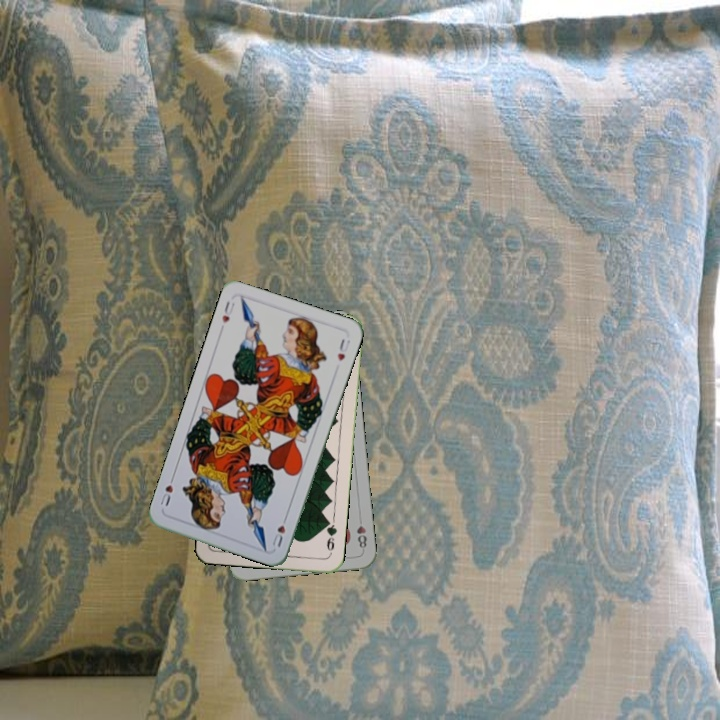G9: (322, 517, 339, 558)
H8: (353, 522, 369, 551)
HU: (268, 511, 290, 549), (218, 297, 237, 326)
